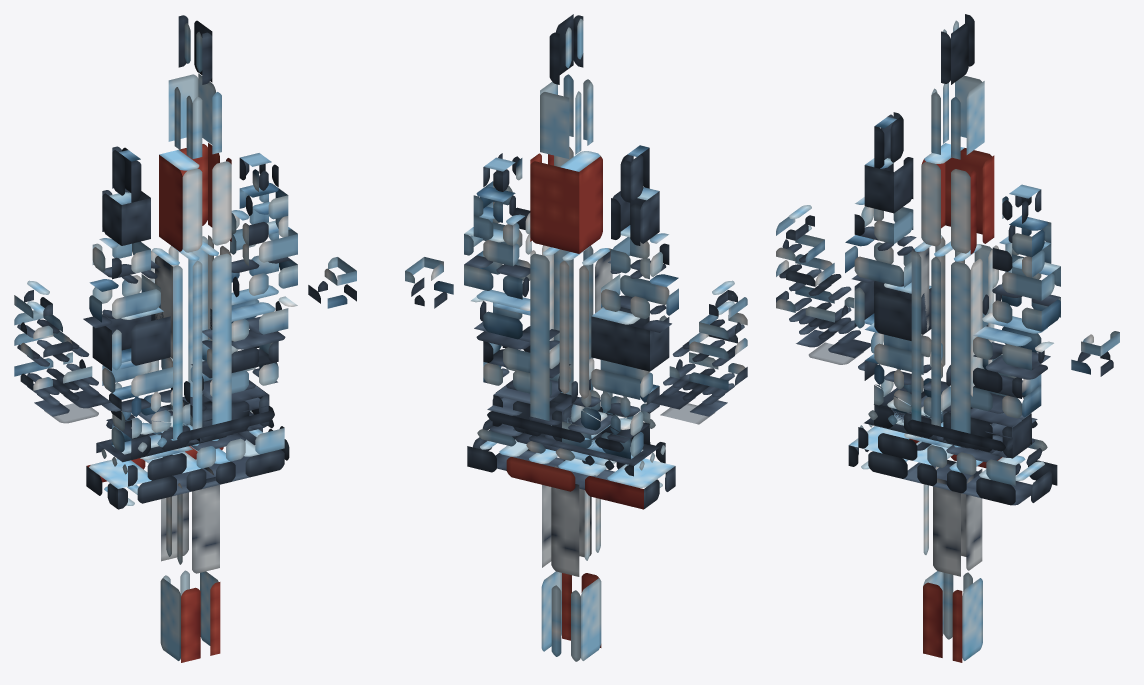
The model's file is frostbite.obj.
3 views of the same model, side by side, from view 1: azimuth 30°, elevation 25°; view 2: azimuth 150°, elevation 25°; view 3: azimuth 330°, elevation 25° (orthographic).
Visible parts, largest first — view 1: lit; view 2: lit; view 3: lit.
Boxes of the visible parts, <box> form: lit: <box>14,15,356,662</box>; lit: <box>405,14,747,661</box>; lit: <box>776,14,1119,662</box>.
Size of the model in its own units: 1.06 by 1.94 by 0.175.
